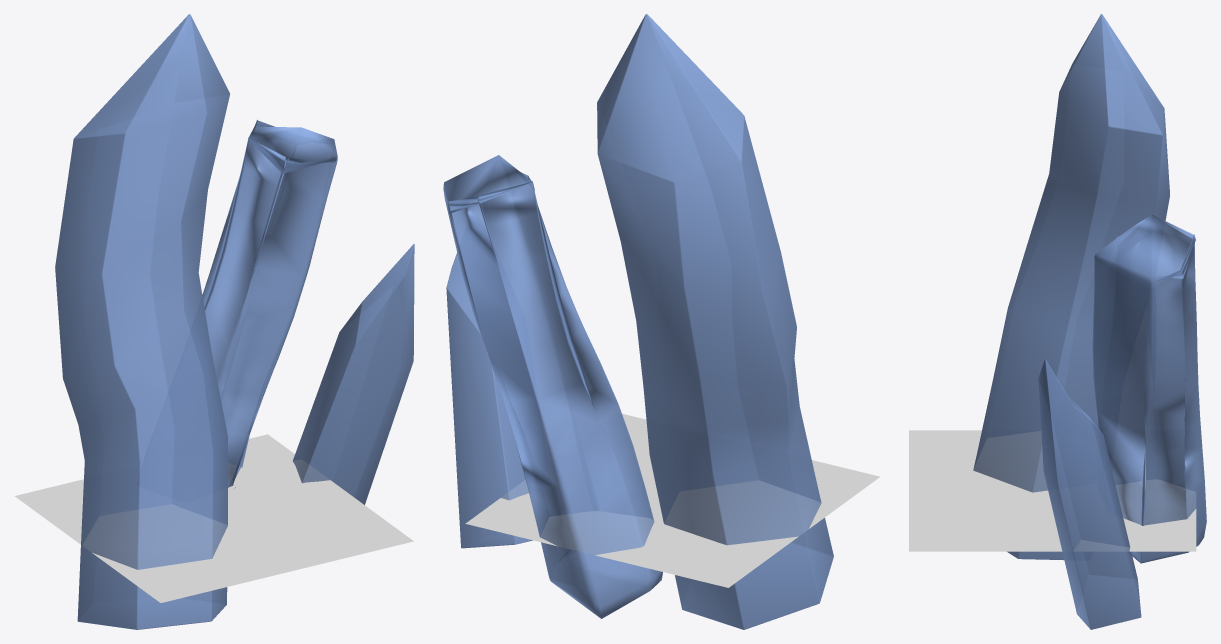
Rendered from Crystals7.fbx.
3 renders of one model, left to right at view 1: azimuth 30°, elevation 25°; view 2: azimuth 150°, elevation 25°; view 3: azimuth 270°, elevation 25°, orthographic. The views are drawn at different scales.
Parts seen in each view (by area): view 1: Crystals7|Crystal3|Dupli|2, Crystals7, Crystals7|Crystal1|Dupli|1, Crystals7|Crystal2|Dupli|; view 2: Crystals7|Crystal3|Dupli|2, Crystals7|Crystal1|Dupli|1, Crystals7, Crystals7|Crystal2|Dupli|; view 3: Crystals7|Crystal3|Dupli|2, Crystals7|Crystal1|Dupli|1, Crystals7, Crystals7|Crystal2|Dupli|.
Boxes of the visible parts, x1=… form: Crystals7|Crystal3|Dupli|2: x1=55, y1=14, x2=229, y2=629; Crystals7: x1=14, y1=434, x2=413, y2=602; Crystals7|Crystal1|Dupli|1: x1=202, y1=119, x2=337, y2=488; Crystals7|Crystal2|Dupli|: x1=293, y1=244, x2=414, y2=504; Crystals7|Crystal3|Dupli|2: x1=597, y1=14, x2=833, y2=629; Crystals7|Crystal1|Dupli|1: x1=443, y1=155, x2=662, y2=618; Crystals7: x1=465, y1=413, x2=880, y2=587; Crystals7|Crystal2|Dupli|: x1=446, y1=252, x2=532, y2=548; Crystals7|Crystal3|Dupli|2: x1=973, y1=14, x2=1169, y2=560; Crystals7|Crystal1|Dupli|1: x1=1092, y1=214, x2=1206, y2=563; Crystals7: x1=909, y1=430, x2=1196, y2=551; Crystals7|Crystal2|Dupli|: x1=1038, y1=359, x2=1141, y2=629.
Bounding box in the file's own units: 112 × 180 × 86.66.
